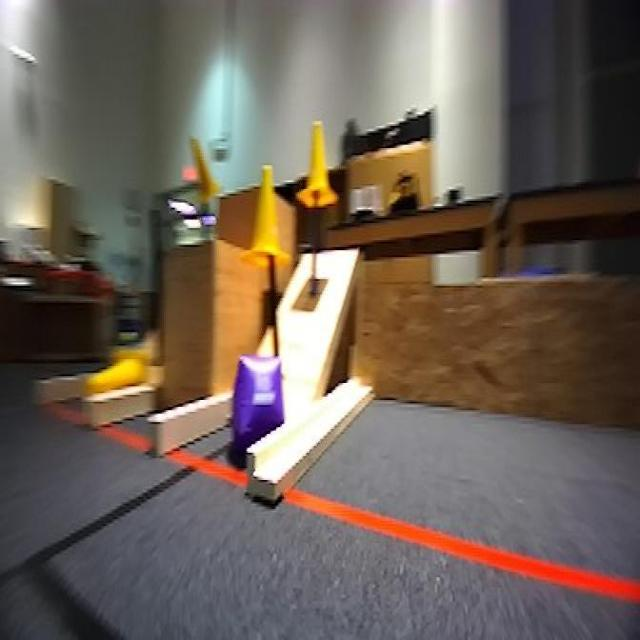frc_cone: (246, 167, 292, 270), (299, 123, 337, 211), (88, 348, 146, 398), (187, 131, 221, 208)
frc_cube: (235, 351, 288, 444)
